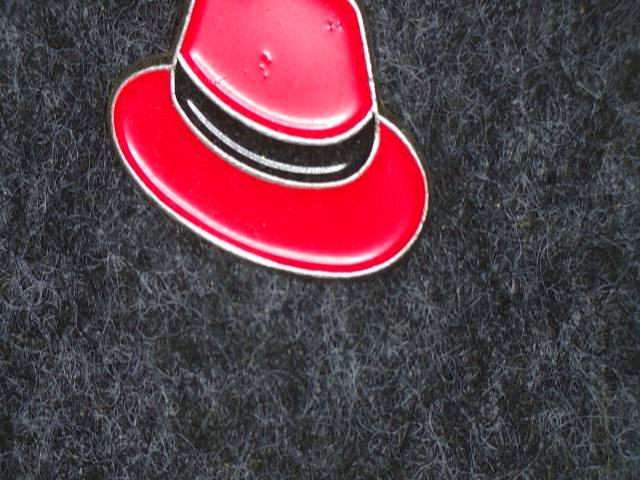Red-Hat: (49, 0, 458, 332)
